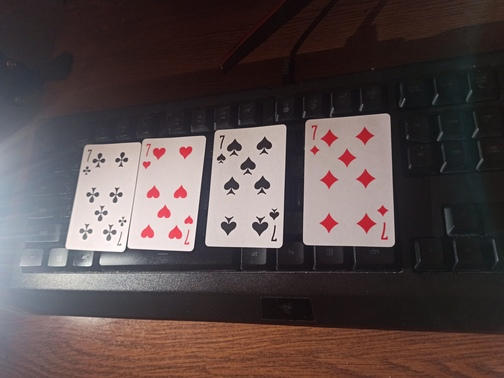sevenclubs: (65, 142, 140, 255)
sevendiamonds: (301, 115, 397, 249)
sevenhearts: (132, 135, 207, 250)
sevenspades: (207, 125, 286, 253)
